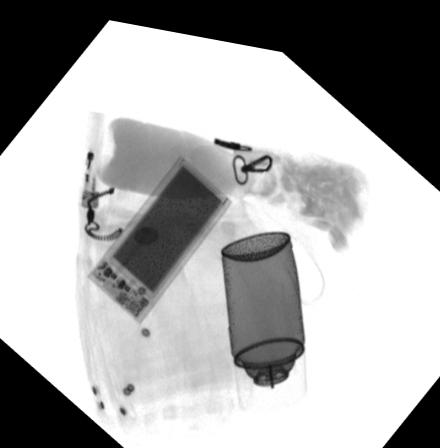Lighter: (79, 107, 103, 205)
Powerbank: (85, 145, 233, 319)
Sprayer: (221, 221, 308, 402)
